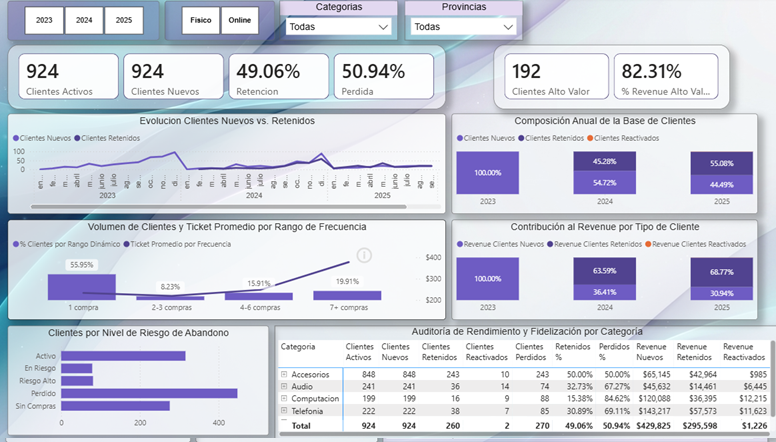

The page's visual inventory and layout, read from the dashboard file:
{"tool":"powerbi","page":{"name":"Clientes Retencion","canvas":[1300,740],"ordinal":3},"visuals":[{"type":"slicer","fields":{"Values":["dim_calendario.Año"]},"box":[14.6,6.8,252.6,66.3],"z":0},{"type":"slicer","title":"Categorias","fields":{"Values":["dim_productos.categoria"]},"box":[468.1,6.8,197,66.3],"z":1000},{"type":"slicer","title":"Provincias","fields":{"Values":["dim_clientes.provincia"]},"box":[675.8,6.8,197,66.3],"z":2000},{"type":"actionButton","box":[0,0,100,40],"z":3000},{"type":"cardVisual","fields":{"Data":["_medidas_clientes.Clientes Activos","_medidas_clientes.Clientes Nuevos","_medidas_clientes.% Clientes Retenidos","_medidas_clientes.% Clientes Perdidos"]},"box":[14.4,80.7,729.6,107.2],"z":4000},{"type":"lineChart","title":"Evolucion Clientes Nuevos vs. Retenidos","fields":{"Category":["dim_calendario.Año","dim_calendario.Mes Name"],"Y":["_medidas_clientes.Clientes Nuevos","_medidas_clientes.Clientes Retenidos"]},"box":[14.4,194.6,729.6,166.9],"z":5000},{"type":"pivotTable","title":"Auditoría de Rendimiento y Fidelización por Categoría","fields":{"Rows":["dim_productos.categoria","dim_clientes.canal_adquisicion"],"Values":["_medidas_clientes.Clientes Activos","_medidas_clientes.Clientes Nuevos","_medidas_clientes.Clientes Retenidos","_medidas_clientes.Clientes Reactivados","_medidas_clientes.Clientes Perdidos","_medidas_clientes.% Clientes Retenidos","_medidas_clientes.% Clientes Perdidos","_medidas_clientes.Revenue Clientes Nuevos","_medidas_clientes.Revenue Clientes Retenidos","_medidas_clientes.Revenue Clientes Reactivados"]},"box":[459.9,548.3,840.1,191.2],"z":6000},{"type":"hundredPercentStackedColumnChart","title":"Contribución al Revenue por Tipo de Cliente","fields":{"Category":["dim_calendario.Año"],"Y":["_medidas_clientes.Revenue Clientes Nuevos","_medidas_clientes.Revenue Clientes Retenidos","_medidas_clientes.Revenue Clientes Reactivados"]},"box":[753.9,370.3,509.6,166.9],"z":8000},{"type":"hundredPercentStackedColumnChart","title":"Composición Anual de la Base de Clientes","fields":{"Category":["dim_calendario.Año"],"Y":["_medidas_clientes.Clientes Nuevos","_medidas_clientes.Clientes Retenidos","_medidas_clientes.Clientes Reactivados"]},"box":[753.9,194.6,509.6,166.9],"z":9000},{"type":"slicer","fields":{"Values":["fact_pedidos_final.canal_venta"]},"box":[276,6.8,183.3,66.3],"z":10000},{"type":"actionButton","box":[0,0,100,40],"z":10002},{"type":"actionButton","box":[591.4,413.4,84,35.4],"z":10003},{"type":"lineClusteredColumnComboChart","title":"Volumen de Clientes y Ticket Promedio por Rango de Frecuencia","fields":{"Category":["ClientesFrecuencia.Segmento Frecuencia"],"Y2":["_medidas_clientes.Ticket Promedio por Frecuencia"],"Y":["_medidas_clientes.% Clientes por Rango Dinámico"]},"box":[14.4,370.3,729.6,166.9],"z":10004},{"type":"cardVisual","fields":{"Data":["_medidas_clientes.Clientes Alto Valor","_medidas_clientes.% Revenue Alto Valor"]},"box":[823.6,80.7,393.5,107.2],"z":10005},{"type":"clusteredBarChart","title":"Clientes por Nivel de Riesgo de Abandono","fields":{"Y":["Count(dim_clientes.cliente_id)"],"Category":["dim_clientes.segmento_riesgo"]},"box":[14.4,548.3,434.4,182.4],"z":10006}]}

Visuals, with their boxes in screenshot pixels (x1, y1, x2, y2), scaled from the page's 1300x740 canvas onto the 776x442 screenshot:
slicer - dim_calendario.Año: crop(9, 4, 159, 44)
"Categorias" slicer: crop(279, 4, 397, 44)
"Provincias" slicer: crop(403, 4, 521, 44)
actionButton: crop(0, 0, 60, 24)
cardVisual - _medidas_clientes.Clientes Activos x _medidas_clientes.Clientes Nuevos: crop(9, 48, 444, 112)
"Evolucion Clientes Nuevos vs. Retenidos" lineChart: crop(9, 116, 444, 216)
"Auditoría de Rendimiento y Fidelización por Categoría" pivotTable: crop(275, 327, 775, 441)
"Contribución al Revenue por Tipo de Cliente" hundredPercentStackedColumnChart: crop(450, 221, 754, 321)
"Composición Anual de la Base de Clientes" hundredPercentStackedColumnChart: crop(450, 116, 754, 216)
slicer - fact_pedidos_final.canal_venta: crop(165, 4, 274, 44)
actionButton: crop(0, 0, 60, 24)
actionButton: crop(353, 247, 403, 268)
"Volumen de Clientes y Ticket Promedio por Rango de Frecuencia" lineClusteredColumnComboChart: crop(9, 221, 444, 321)
cardVisual - _medidas_clientes.Clientes Alto Valor x _medidas_clientes.% Revenue Alto Valor: crop(492, 48, 727, 112)
"Clientes por Nivel de Riesgo de Abandono" clusteredBarChart: crop(9, 327, 268, 436)
